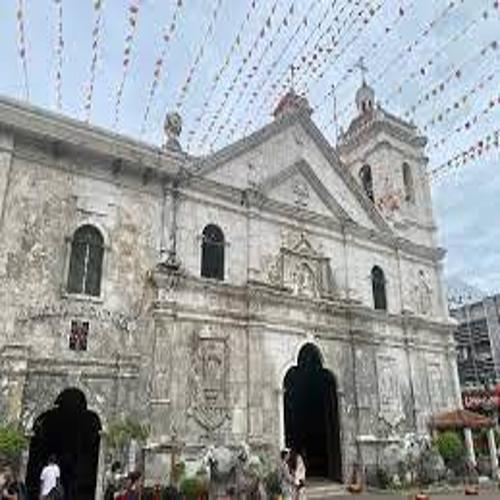Sto. Nino Basilica Church: (158, 46, 482, 499)
